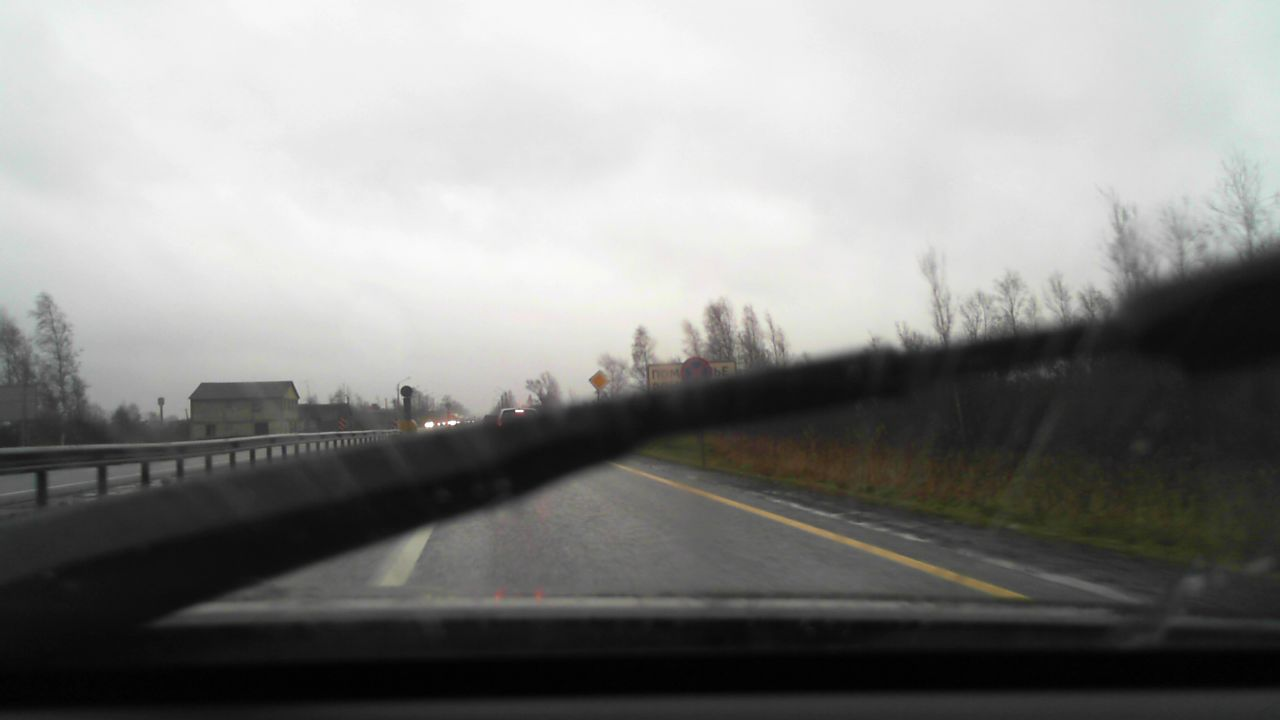No Parking: (680, 357, 712, 388)
